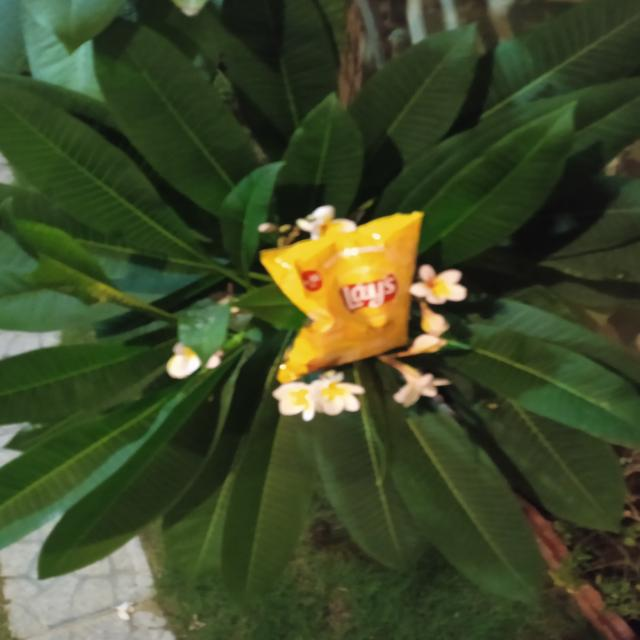Plastic: (256, 208, 429, 384)
